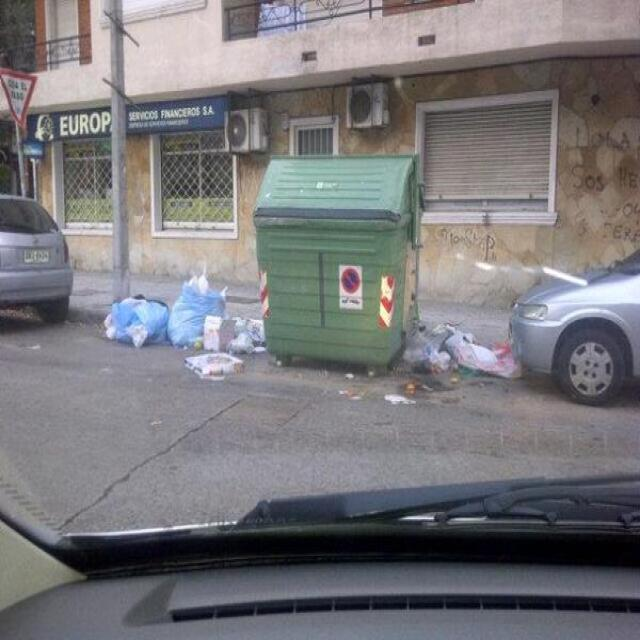garbage: (95, 272, 263, 378), (408, 313, 516, 385)
